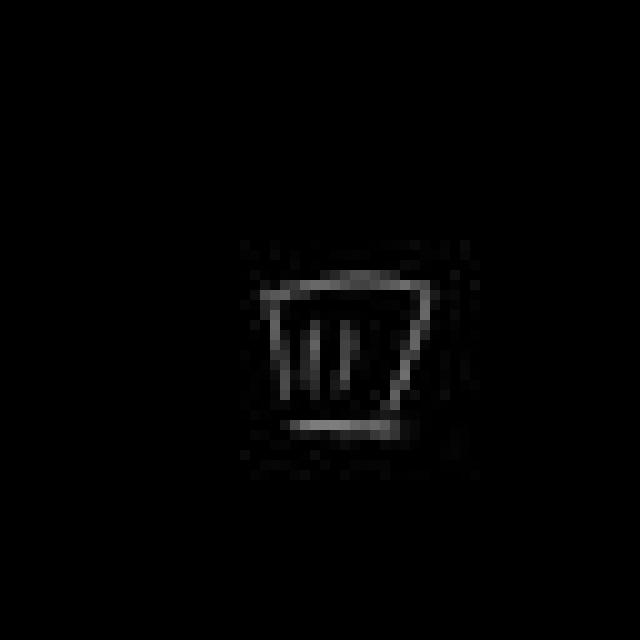4 -four-: (247, 265, 444, 455)
